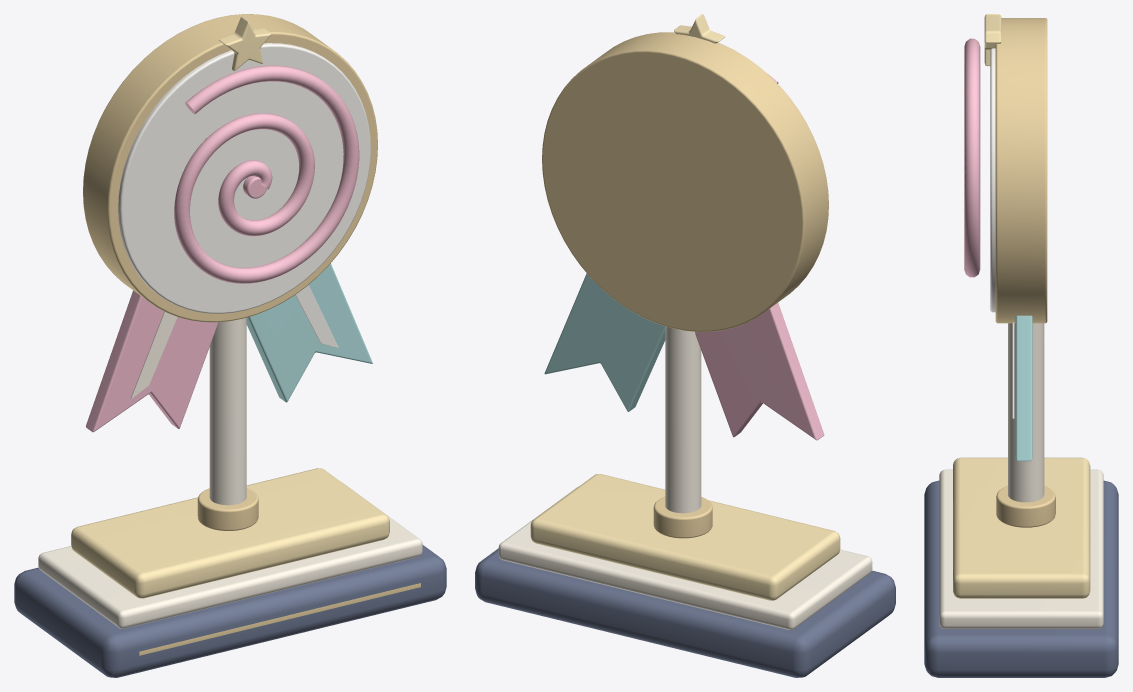
File: FinishMarker.fbx
3 views of the same model, side by side, from view 1: azimuth 30°, elevation 25°; view 2: azimuth 150°, elevation 25°; view 3: azimuth 270°, elevation 25° (orthographic). The views are drawn at different scales.
Parts seen in each view (by area): view 1: CandyMedallion, PodiumTop, WinnerPodium, CandyRim, CandySwirl, PodiumIcing, RibbonLeft, RibbonRight, CandyStem, StemCollar, VictoryStar, PodiumFrontBand (+2 smaller); view 2: CandyRim, WinnerPodium, PodiumTop, PodiumIcing, RibbonLeft, RibbonRight, CandyStem, StemCollar, VictoryStar; view 3: PodiumTop, CandyRim, WinnerPodium, PodiumIcing, CandyStem, CandySwirl, RibbonRight, StemCollar, CandyMedallion, VictoryStar.
Part boxes in pixels (x1,y1,x2,y2): CandyMedallion: (118, 43, 370, 313); PodiumTop: (71, 468, 389, 598); WinnerPodium: (14, 545, 446, 677); CandyRim: (83, 14, 377, 322); CandySwirl: (174, 65, 359, 283); PodiumIcing: (38, 481, 422, 628); RibbonLeft: (86, 290, 218, 432); RibbonRight: (246, 263, 372, 402); CandyStem: (209, 317, 246, 505); StemCollar: (197, 488, 258, 530); VictoryStar: (218, 16, 271, 70); PodiumFrontBand: (139, 583, 420, 655); CandyRim: (542, 32, 828, 331); WinnerPodium: (475, 548, 895, 677); PodiumTop: (530, 474, 840, 600); PodiumIcing: (498, 486, 872, 629); RibbonLeft: (695, 302, 824, 440); RibbonRight: (544, 273, 665, 411); CandyStem: (665, 326, 701, 513); StemCollar: (653, 497, 712, 538); VictoryStar: (674, 14, 725, 43); PodiumTop: (953, 457, 1090, 598); CandyRim: (995, 18, 1047, 323); WinnerPodium: (924, 480, 1118, 677); PodiumIcing: (939, 469, 1103, 628); CandyStem: (1008, 323, 1044, 502); CandySwirl: (964, 38, 980, 277); RibbonRight: (1015, 315, 1032, 461); StemCollar: (996, 486, 1055, 527); CandyMedallion: (990, 48, 995, 312); VictoryStar: (984, 14, 1001, 66).
Size of the model in its own units: 300 by 499 by 150.
